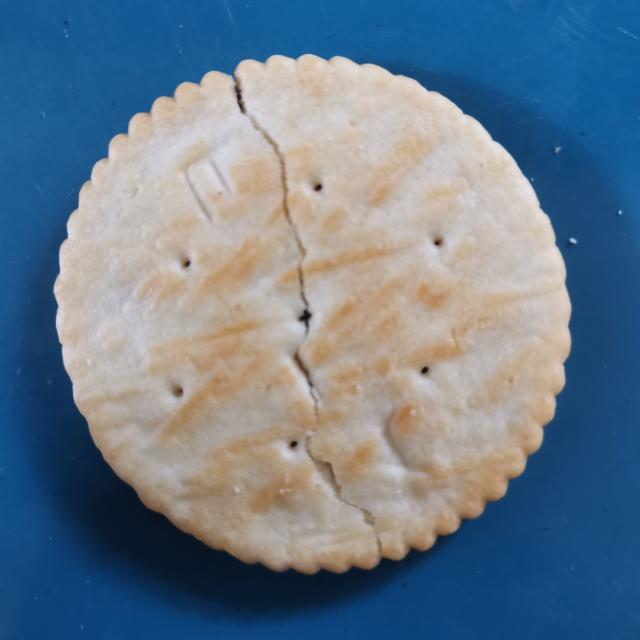Fracture: (197, 51, 410, 580)
